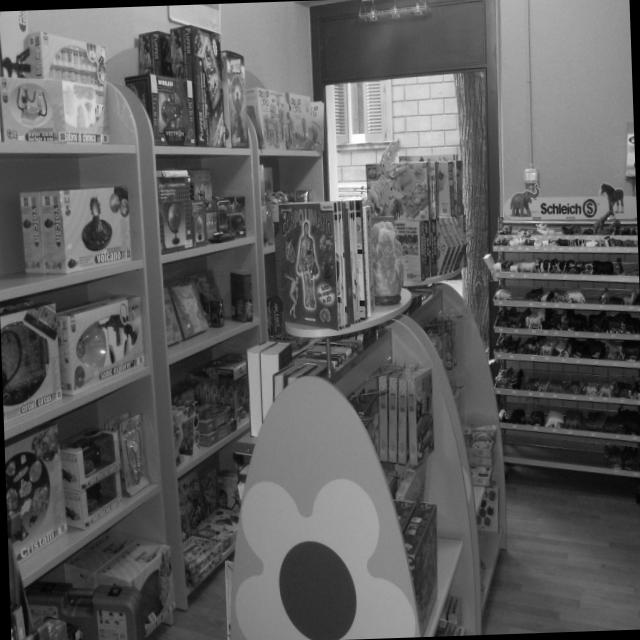2001: (15, 10, 177, 155)
CPU occluded: (49, 160, 96, 236), (332, 148, 372, 227), (130, 158, 167, 211)
chair -occluded-: (98, 227, 156, 335), (159, 201, 217, 305), (272, 206, 326, 315), (224, 197, 280, 298)
chair part: (35, 239, 104, 377), (326, 223, 407, 333), (0, 265, 53, 418), (340, 310, 406, 407)
desk calendar: (0, 180, 406, 276)
floor -X: (0, 253, 412, 420)
keyboard crop: (25, 233, 85, 258), (353, 217, 405, 238), (105, 213, 155, 234), (276, 200, 322, 219), (181, 193, 219, 209)
monitor crop: (278, 135, 333, 210), (0, 175, 50, 246), (94, 163, 128, 226), (371, 165, 404, 228), (162, 154, 196, 204)
switchs: (204, 155, 216, 170)
wall clock: (194, 0, 408, 311), (0, 5, 195, 327)
